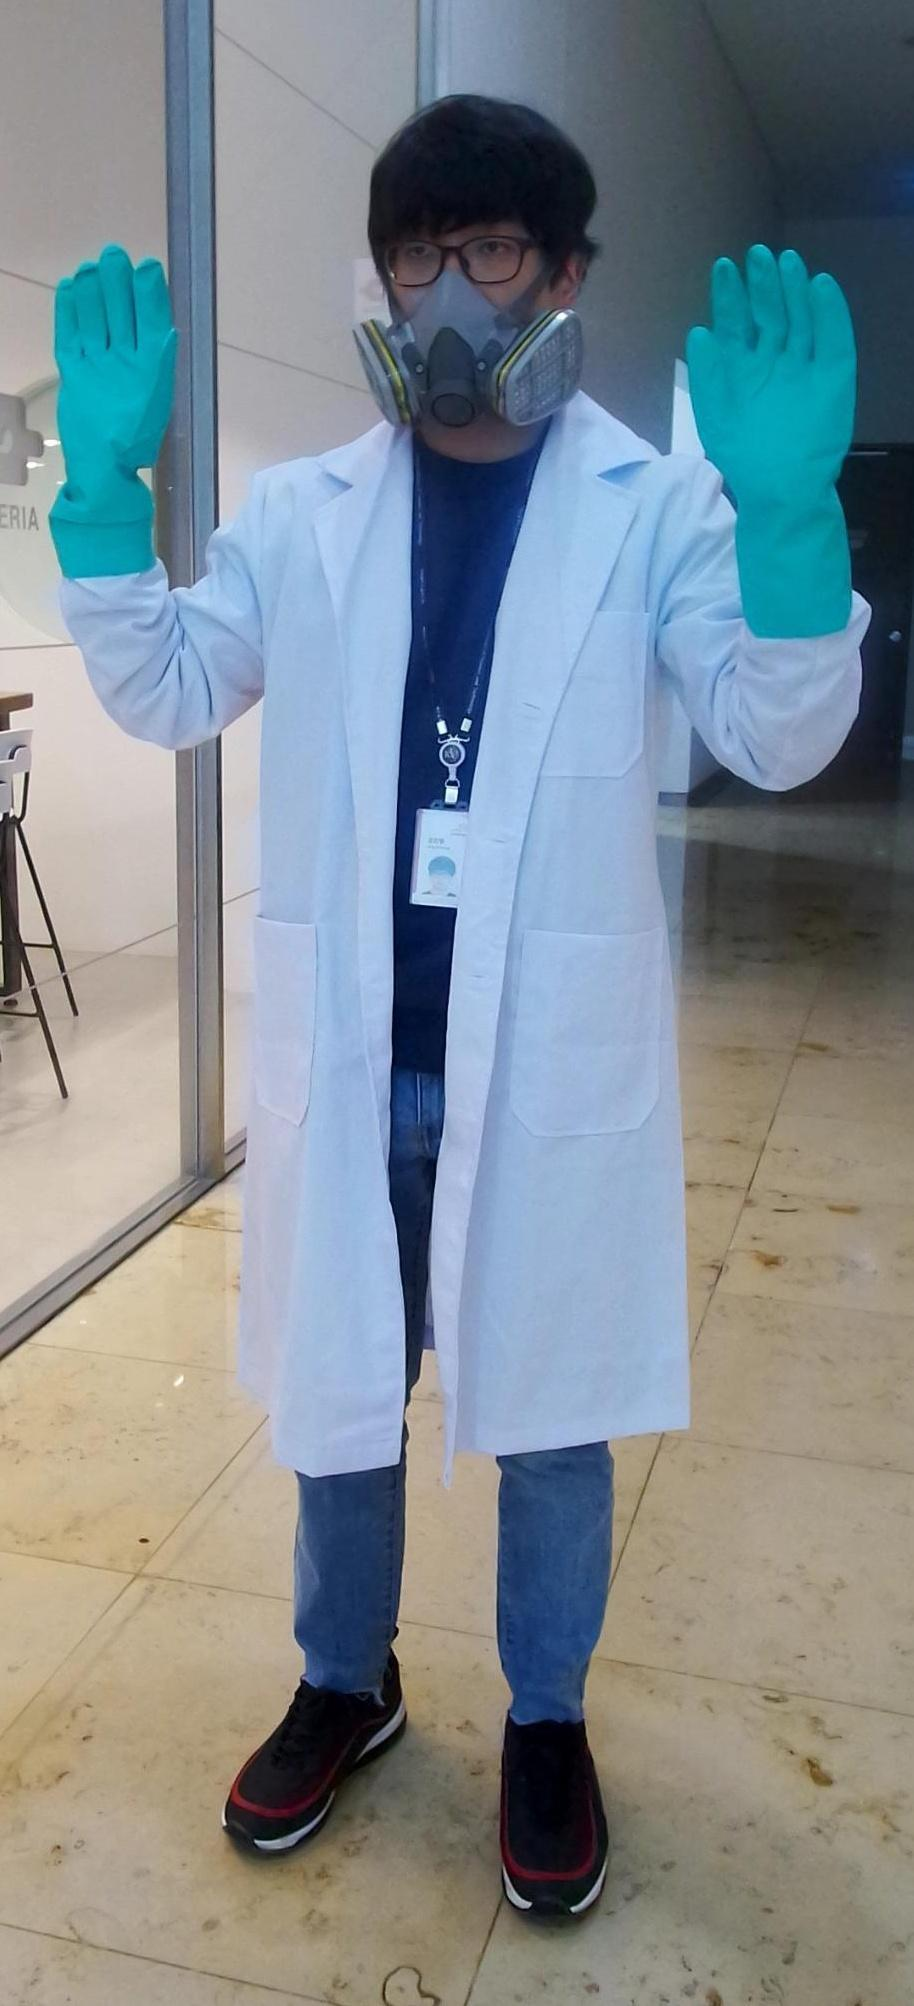lab_coat: (214, 481, 726, 1429)
